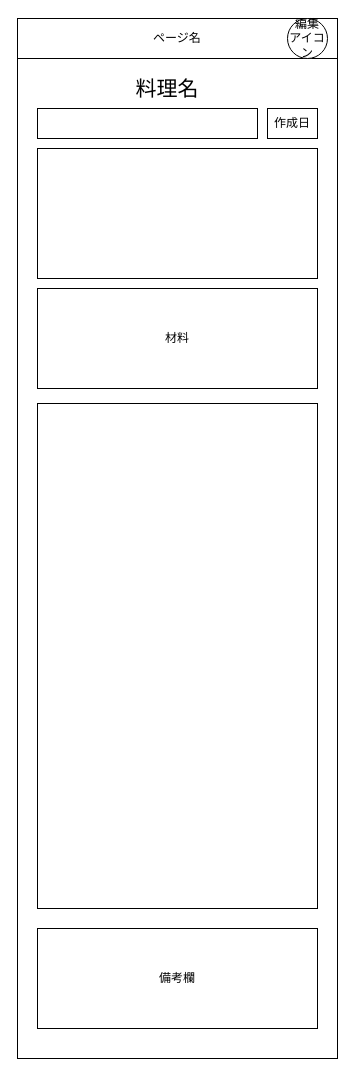
This 355x1076 diagram has some shape labels left out. The shapes that lost their labels are listed below. From the top down, each one's centre as x and y in pixels, then its label:
point 147,123: タグ
point 177,213: 画像
point 177,655: 作り方
